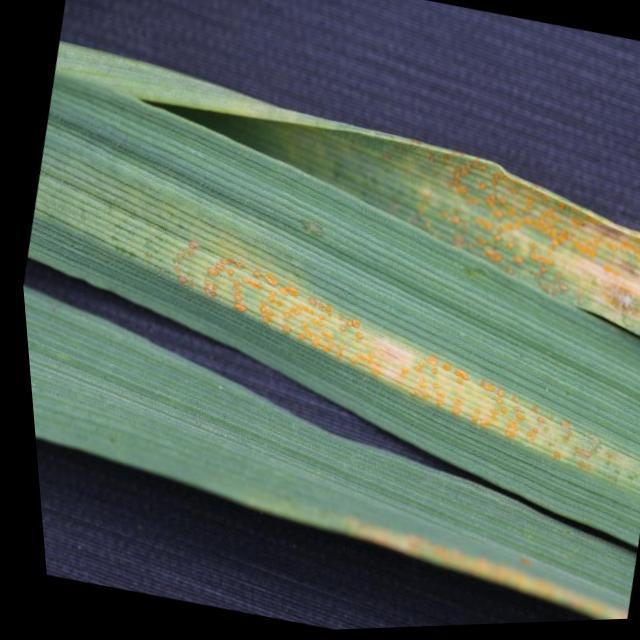Yellow_Rust: (17, 41, 639, 623)
